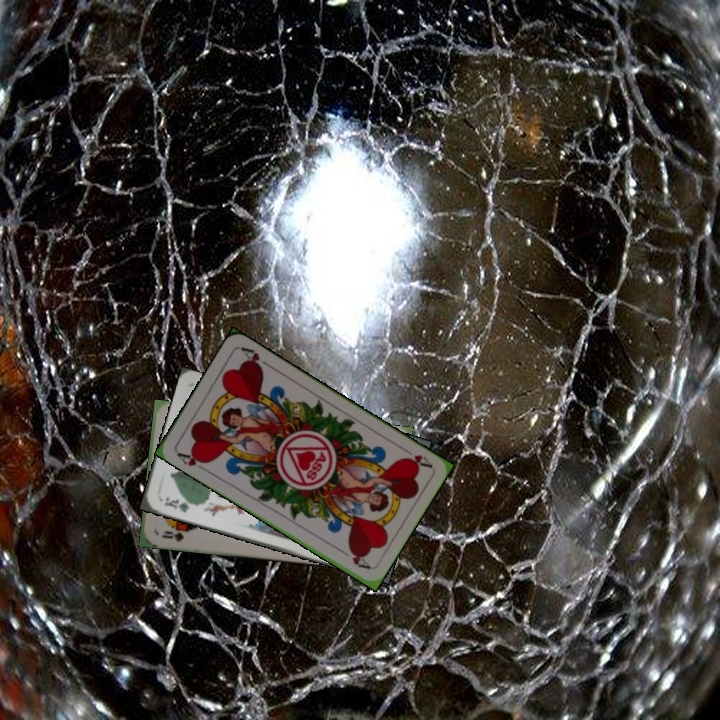GK: (161, 492, 198, 515)
HA: (398, 443, 434, 470), (173, 448, 210, 474)
SO: (158, 526, 192, 544)
